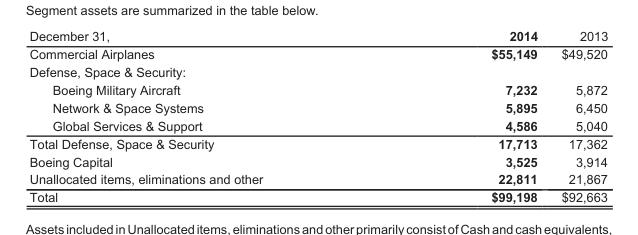table: (28, 28, 607, 203)
table column: (28, 28, 376, 203), (376, 28, 548, 203), (548, 28, 607, 203)
table column header: (28, 28, 607, 44)
table projected row header: (28, 62, 607, 80)
table row: (28, 44, 607, 62), (28, 62, 607, 80), (28, 80, 607, 98), (28, 98, 607, 116), (28, 116, 607, 134), (28, 134, 607, 152), (28, 152, 607, 170), (28, 170, 607, 187), (28, 28, 607, 44), (28, 187, 607, 203)
